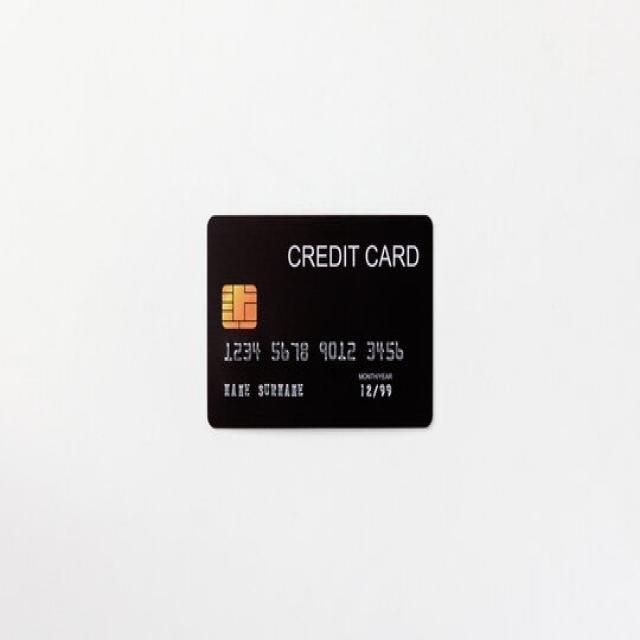payment_card: (205, 213, 434, 429)
